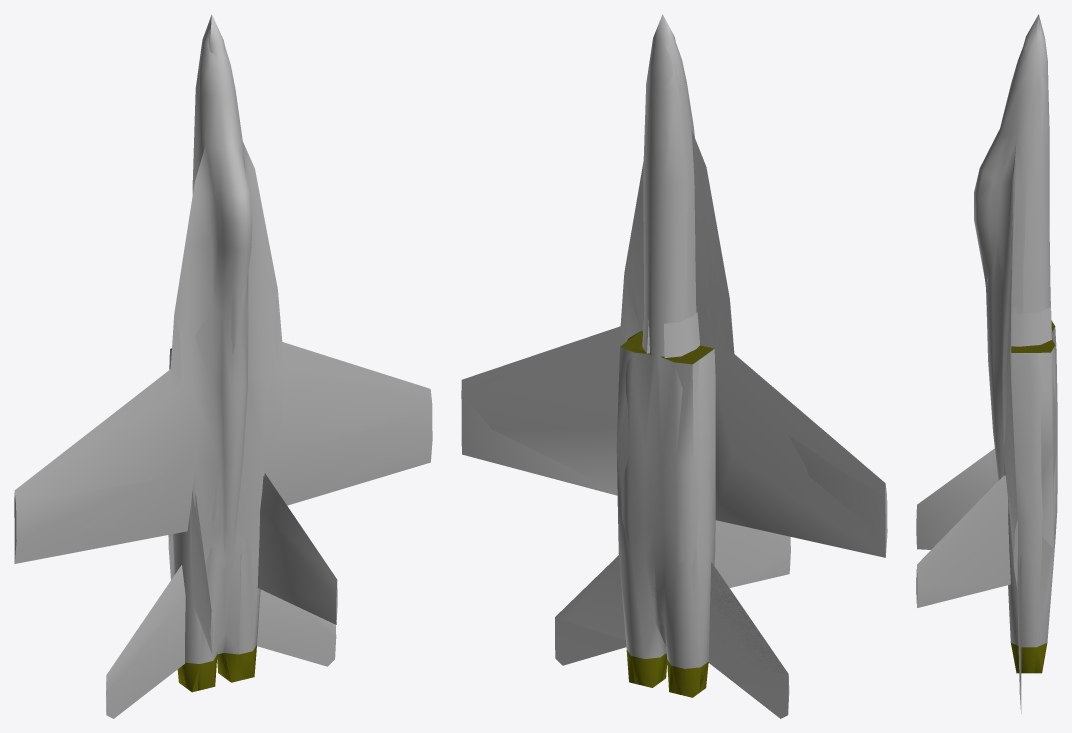
3 views of the same model, side by side, from view 1: azimuth 30°, elevation 25°; view 2: azimuth 150°, elevation 25°; view 3: azimuth 270°, elevation 25° (orthographic). The views are drawn at different scales.
Parts seen in each view (by area): view 1: db_f18_newLOD_LOD child0_fuseb1_p13680_Geometry_0.001, db_f18_newLOD_LOD child0_fuseb2_p13974_Geometry_0.001, db_f18_newLOD_LOD child0_fusea1_p13782_Geometry_0.001, db_f18_newLOD_LOD child0_stabs1_p13662_Geometry_0.001, db_f18_newLOD_LOD child0_fuseb3_p14217_Geometry_0.001, db_f18_newLOD_LOD child0_fins1_p13640_Geometry_0.001, db_f18_newLOD_LOD child0_canopy1_p13728_Geometry_0.001, db_f18_newLOD_LOD child0_fins2_p14153_Geometry_0.001, db_f18_newLOD_LOD child0_fusea2_p14078_Geometry_0.001, db_f18_newLOD_LOD child0_nozz3_p14199_Geometry_0.001, db_f18_newLOD_LOD child0_nozz1_p13898_Geometry_0.001; view 2: db_f18_newLOD_LOD child0_wingsb1_p13704_Geometry_0.001, db_f18_newLOD_LOD child0_fuseb1_p13680_Geometry_0.001, db_f18_newLOD_LOD child0_fusea2_p14078_Geometry_0.001, db_f18_newLOD_LOD child0_stabs3_p14472_Geometry_0.001, db_f18_newLOD_LOD child0_fuseb2_p13974_Geometry_0.001, db_f18_newLOD_LOD child0_wingsb2_p14044_Geometry_0.001, db_f18_newLOD_LOD child0_fusea1_p13782_Geometry_0.001, db_f18_newLOD_LOD child0_fins2_p14153_Geometry_0.001, db_f18_newLOD_LOD child0_wingsb3_p14300_Geometry_0.001, db_f18_newLOD_LOD child0_nozz3_p14199_Geometry_0.001, db_f18_newLOD_LOD child0_splitte_pl1_Geometry_0.001; view 3: db_f18_newLOD_LOD child0_fuseb1_p13680_Geometry_0.001, db_f18_newLOD_LOD child0_fusea1_p13782_Geometry_0.001, db_f18_newLOD_LOD child0_fins2_p14153_Geometry_0.001, db_f18_newLOD_LOD child0_fusea2_p14078_Geometry_0.001, db_f18_newLOD_LOD child0_fuseb2_p13974_Geometry_0.001, db_f18_newLOD_LOD child0_fins1_p13640_Geometry_0.001, db_f18_newLOD_LOD child0_canopy1_p13728_Geometry_0.001, db_f18_newLOD_LOD child0_splitte_pl1_Geometry_0.001, db_f18_newLOD_LOD child0_fuseb3_p14217_Geometry_0.001, db_f18_newLOD_LOD child0_nozz3_p14199_Geometry_0.001, db_f18_newLOD_LOD child0_stabs1_p13662_Geometry_0.001, db_f18_newLOD_LOD child0_inlets2_p14074_Geometry_0.001 (+1 smaller).
Boxes of the visible parts, left/top/right/bottom form: db_f18_newLOD_LOD child0_fuseb1_p13680_Geometry_0.001: left=14, top=141, right=432, bottom=663; db_f18_newLOD_LOD child0_fuseb2_p13974_Geometry_0.001: left=14, top=173, right=431, bottom=564; db_f18_newLOD_LOD child0_fusea1_p13782_Geometry_0.001: left=198, top=15, right=248, bottom=654; db_f18_newLOD_LOD child0_stabs1_p13662_Geometry_0.001: left=106, top=565, right=336, bottom=718; db_f18_newLOD_LOD child0_fuseb3_p14217_Geometry_0.001: left=78, top=461, right=252, bottom=663; db_f18_newLOD_LOD child0_fins1_p13640_Geometry_0.001: left=195, top=476, right=337, bottom=652; db_f18_newLOD_LOD child0_canopy1_p13728_Geometry_0.001: left=215, top=146, right=252, bottom=311; db_f18_newLOD_LOD child0_fins2_p14153_Geometry_0.001: left=191, top=473, right=334, bottom=654; db_f18_newLOD_LOD child0_fusea2_p14078_Geometry_0.001: left=192, top=14, right=238, bottom=568; db_f18_newLOD_LOD child0_nozz3_p14199_Geometry_0.001: left=177, top=645, right=256, bottom=692; db_f18_newLOD_LOD child0_nozz1_p13898_Geometry_0.001: left=179, top=651, right=252, bottom=690; db_f18_newLOD_LOD child0_wingsb1_p13704_Geometry_0.001: left=461, top=130, right=885, bottom=557; db_f18_newLOD_LOD child0_fuseb1_p13680_Geometry_0.001: left=621, top=349, right=887, bottom=668; db_f18_newLOD_LOD child0_fusea2_p14078_Geometry_0.001: left=643, top=15, right=695, bottom=643; db_f18_newLOD_LOD child0_stabs3_p14472_Geometry_0.001: left=555, top=555, right=788, bottom=718; db_f18_newLOD_LOD child0_fuseb2_p13974_Geometry_0.001: left=616, top=347, right=886, bottom=668; db_f18_newLOD_LOD child0_wingsb2_p14044_Geometry_0.001: left=461, top=161, right=885, bottom=556; db_f18_newLOD_LOD child0_fusea1_p13782_Geometry_0.001: left=643, top=14, right=696, bottom=645; db_f18_newLOD_LOD child0_fins2_p14153_Geometry_0.001: left=714, top=520, right=790, bottom=587; db_f18_newLOD_LOD child0_wingsb3_p14300_Geometry_0.001: left=626, top=163, right=734, bottom=353; db_f18_newLOD_LOD child0_nozz3_p14199_Geometry_0.001: left=626, top=650, right=708, bottom=697; db_f18_newLOD_LOD child0_splitte_pl1_Geometry_0.001: left=642, top=312, right=700, bottom=357; db_f18_newLOD_LOD child0_fuseb1_p13680_Geometry_0.001: left=1001, top=140, right=1057, bottom=647; db_f18_newLOD_LOD child0_fusea1_p13782_Geometry_0.001: left=986, top=15, right=1050, bottom=480; db_f18_newLOD_LOD child0_fins2_p14153_Geometry_0.001: left=917, top=448, right=1010, bottom=607; db_f18_newLOD_LOD child0_fusea2_p14078_Geometry_0.001: left=996, top=14, right=1050, bottom=313; db_f18_newLOD_LOD child0_fuseb2_p13974_Geometry_0.001: left=1003, top=181, right=1057, bottom=646; db_f18_newLOD_LOD child0_fins1_p13640_Geometry_0.001: left=916, top=449, right=1004, bottom=603; db_f18_newLOD_LOD child0_canopy1_p13728_Geometry_0.001: left=974, top=129, right=1002, bottom=278; db_f18_newLOD_LOD child0_splitte_pl1_Geometry_0.001: left=1011, top=301, right=1051, bottom=346; db_f18_newLOD_LOD child0_fuseb3_p14217_Geometry_0.001: left=1008, top=201, right=1053, bottom=646; db_f18_newLOD_LOD child0_nozz3_p14199_Geometry_0.001: left=1011, top=643, right=1047, bottom=673; db_f18_newLOD_LOD child0_stabs1_p13662_Geometry_0.001: left=1017, top=554, right=1021, bottom=713; db_f18_newLOD_LOD child0_inlets2_p14074_Geometry_0.001: left=1011, top=320, right=1055, bottom=352.
Size of the model in its own units: 11.32 by 17.48 by 3.43.
